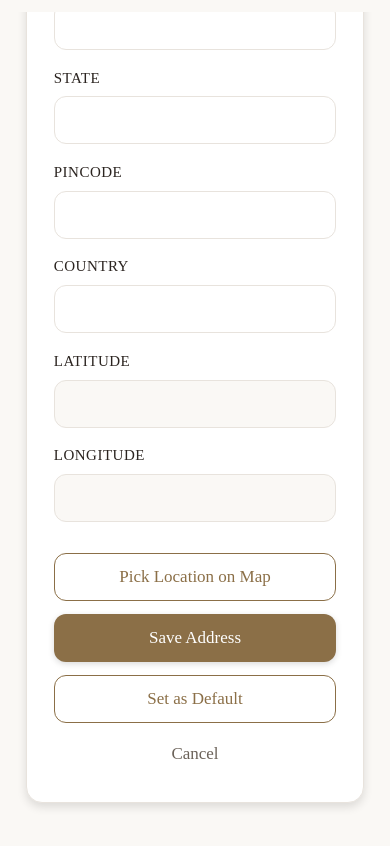
AddressFormScreen › shows validation errors for an empty submit
(page scrolled)
Click the text "Save Address" at [195, 638], box [149,628,241,648]
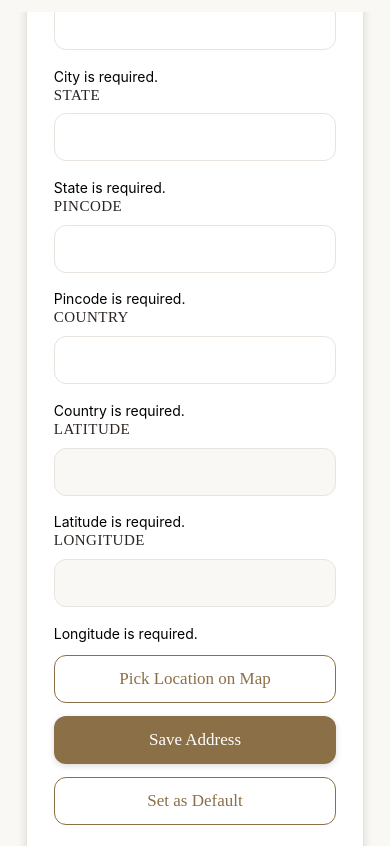
Now the text "Pincode is required." is shown, box [54,290,185,307]
